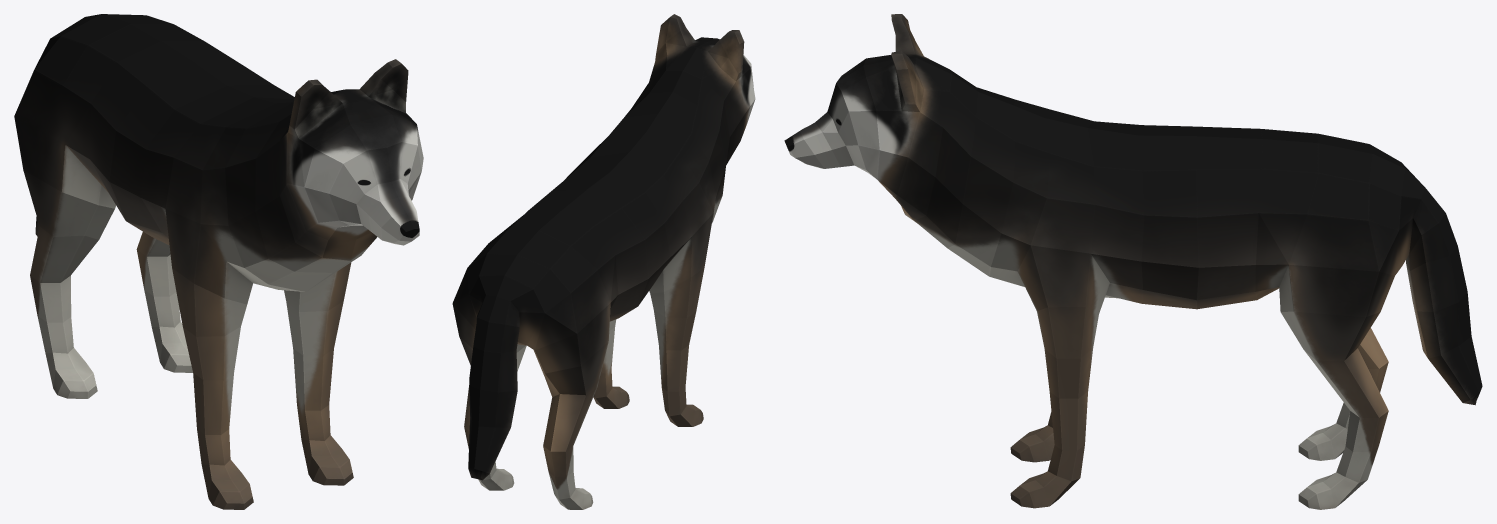
Rendered from 7e544acc-db7b-4727-94af-a75369f54abd.glb.
3 views of the same model, side by side, from view 1: azimuth 30°, elevation 25°; view 2: azimuth 150°, elevation 25°; view 3: azimuth 270°, elevation 25° (orthographic). The views are drawn at different scales.
Visible parts, largest first — view 1: Wolves_Mesh; view 2: Wolves_Mesh; view 3: Wolves_Mesh.
Part boxes in pixels (bbox=[...]): Wolves_Mesh: bbox=[14, 14, 423, 509]; Wolves_Mesh: bbox=[452, 14, 755, 509]; Wolves_Mesh: bbox=[784, 14, 1482, 509].
Size of the model in its own units: 2.6 by 6.75 by 9.65.
Materials: 1 (1 with a texture image).
